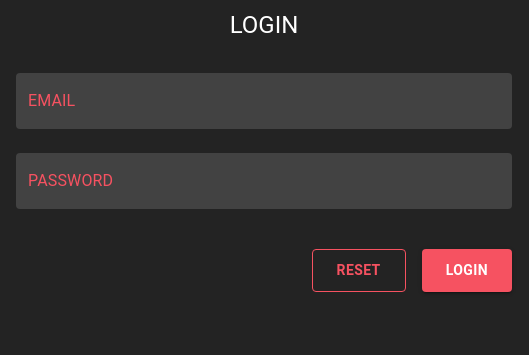
UserForm › displays validation errors when submitting with empty fields
Click the button "LOGIN". click: (467, 270)
box: [422, 249, 512, 292]
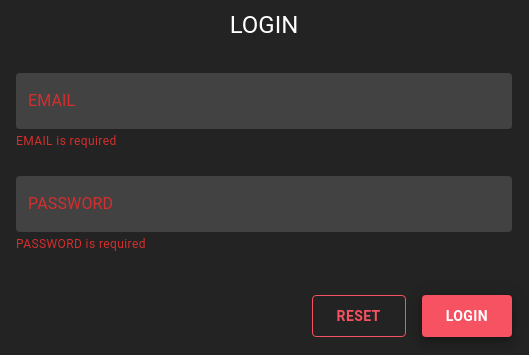
Now the text "EMAIL is required" is shown, box [16, 134, 117, 148]
Now the text "PASSWORD is required" is shown, box [16, 237, 146, 251]
